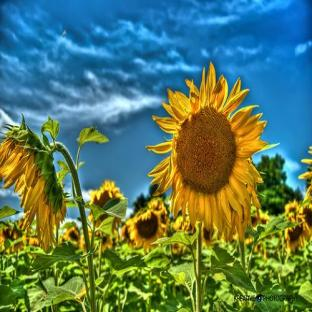sunflower: (147, 64, 278, 312)
